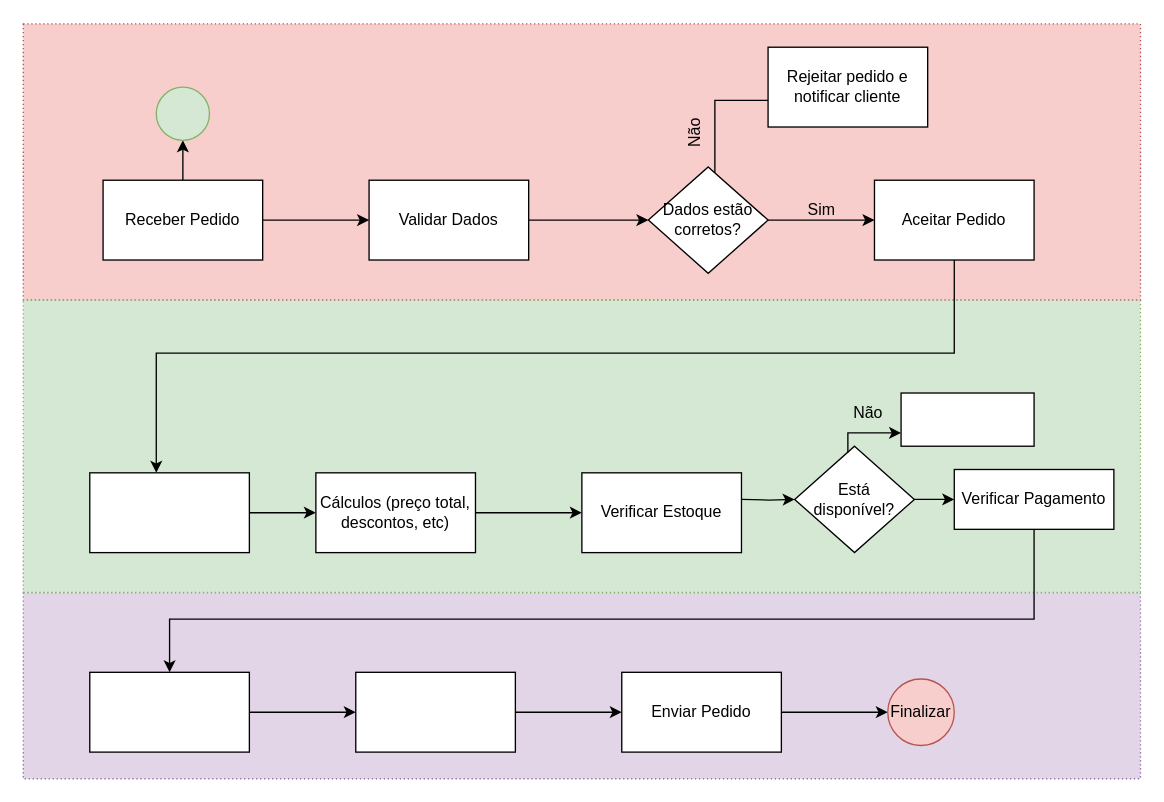
This 1164x802 diagram has some shape labels left out. Each missing label, with the box of its shape:
Atualizar Cliente: (88, 671, 249, 752)
Avisar para área: (900, 392, 1034, 446)
Iniciar: (155, 86, 209, 140)
Preparar Envio: (354, 671, 515, 752)
Processar Pedido: (88, 471, 249, 553)
